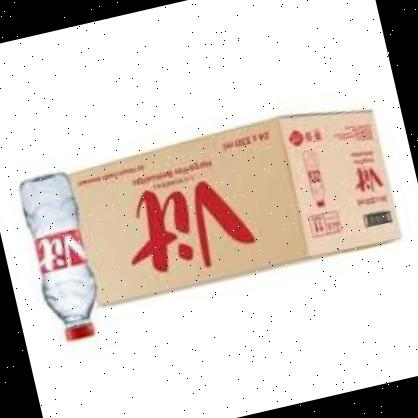bottle: (4, 161, 120, 361)
cap: (61, 316, 97, 346)
label: (31, 226, 92, 274)
